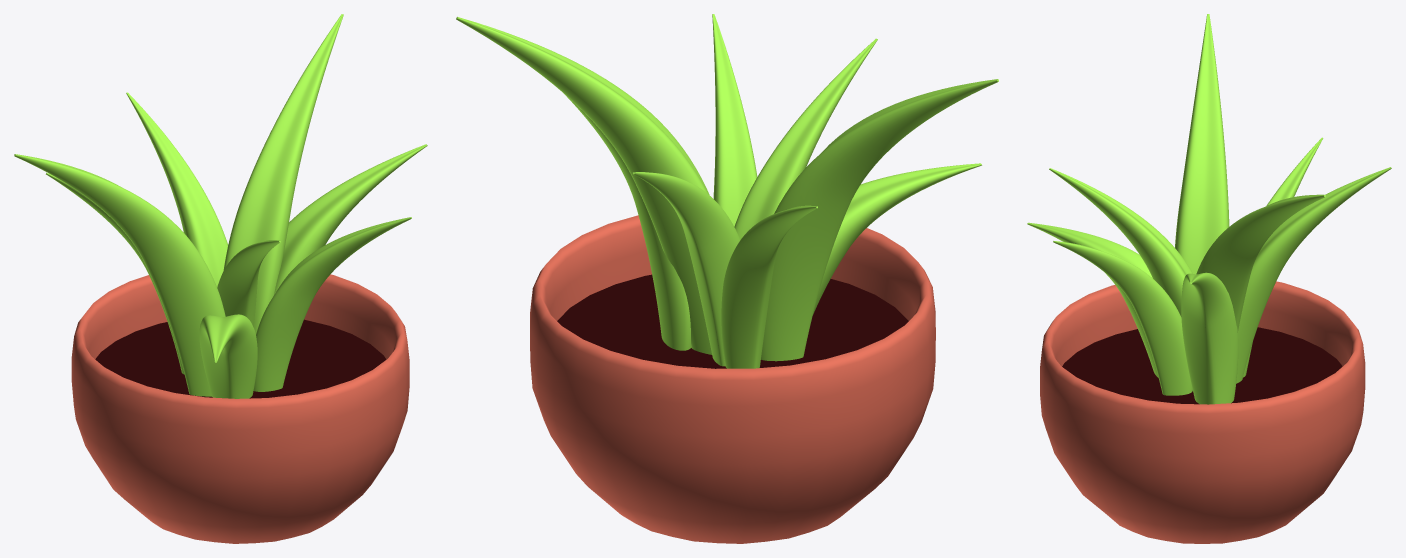
Rendered from miniPot.fbx.
3 views of the same model, side by side, from view 1: azimuth 30°, elevation 25°; view 2: azimuth 150°, elevation 25°; view 3: azimuth 270°, elevation 25° (orthographic). The views are drawn at different scales.
Parts seen in each view (by area): view 1: Vert, NurbsPath, NurbsPath.008, Circle, NurbsPath.006, NurbsPath.007, NurbsPath.003, NurbsPath.005, NurbsPath.004, NurbsPath.001; view 2: Vert, NurbsPath, NurbsPath.008, Circle, NurbsPath.001, NurbsPath.007, NurbsPath.004, NurbsPath.006, NurbsPath.005, NurbsPath.003; view 3: Vert, Circle, NurbsPath, NurbsPath.003, NurbsPath.006, NurbsPath.007, NurbsPath.008, NurbsPath.004, NurbsPath.005, NurbsPath.001.
Boxes of the visible parts, <box> form: Vert: <box>71,274,409,543</box>; NurbsPath: <box>14,154,225,396</box>; NurbsPath.008: <box>223,14,343,333</box>; Circle: <box>95,319,386,398</box>; NurbsPath.006: <box>253,217,411,391</box>; NurbsPath.007: <box>126,92,227,287</box>; NurbsPath.003: <box>274,144,427,294</box>; NurbsPath.005: <box>199,314,257,398</box>; NurbsPath.004: <box>217,240,280,326</box>; NurbsPath.001: <box>46,172,184,374</box>; Vert: <box>530,215,935,543</box>; NurbsPath: <box>761,79,998,361</box>; NurbsPath.008: <box>456,17,711,354</box>; Circle: <box>557,274,908,368</box>; NurbsPath.001: <box>721,205,817,368</box>; NurbsPath.007: <box>633,172,740,366</box>; NurbsPath.004: <box>734,38,877,239</box>; NurbsPath.006: <box>712,14,757,226</box>; NurbsPath.005: <box>812,163,981,315</box>; NurbsPath.003: <box>563,93,691,350</box>; Vert: <box>1040,281,1365,543</box>; Circle: <box>1062,327,1342,404</box>; NurbsPath: <box>1175,14,1229,274</box>; NurbsPath.003: <box>1181,272,1238,404</box>; NurbsPath.006: <box>1053,241,1192,395</box>; NurbsPath.007: <box>1236,167,1391,383</box>; NurbsPath.008: <box>1192,194,1325,390</box>; NurbsPath.004: <box>1049,168,1192,316</box>; NurbsPath.005: <box>1027,222,1158,377</box>; NurbsPath.001: <box>1243,137,1323,377</box>.
Size of the model in its own units: 93.01 by 91.24 by 75.38.
